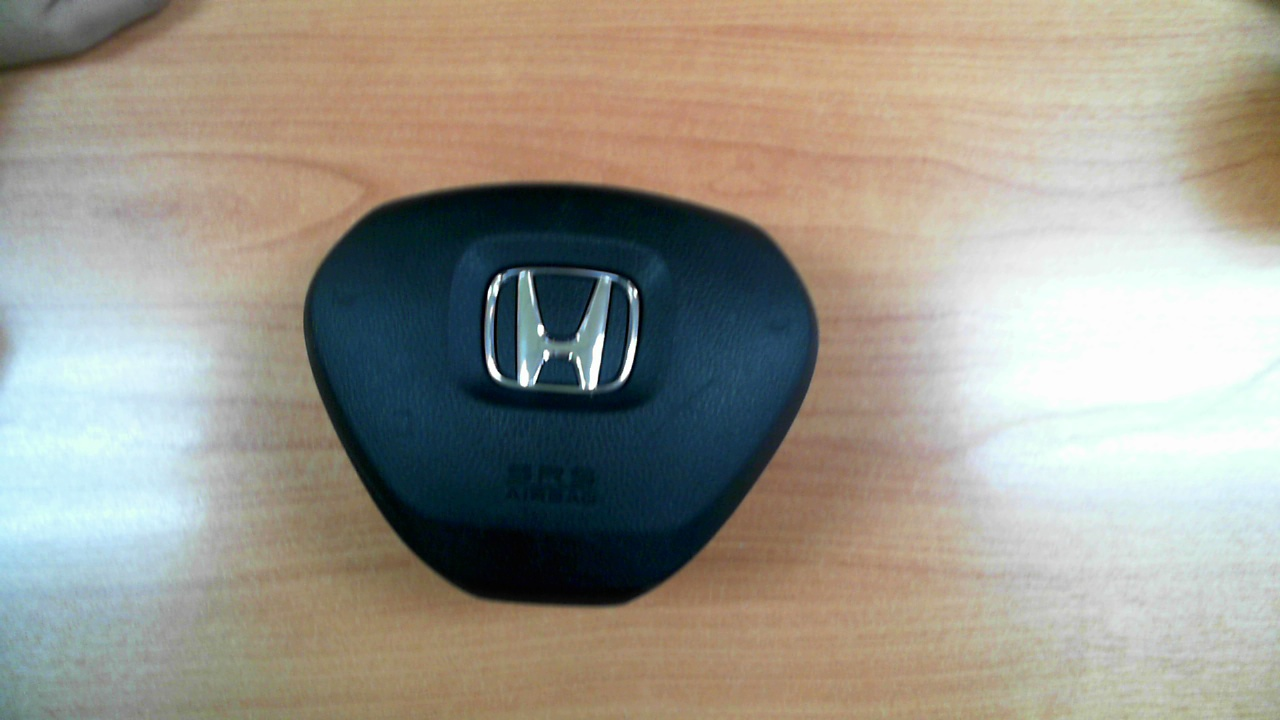Airbag: (303, 183, 819, 609)
Honda: (483, 266, 640, 395)
